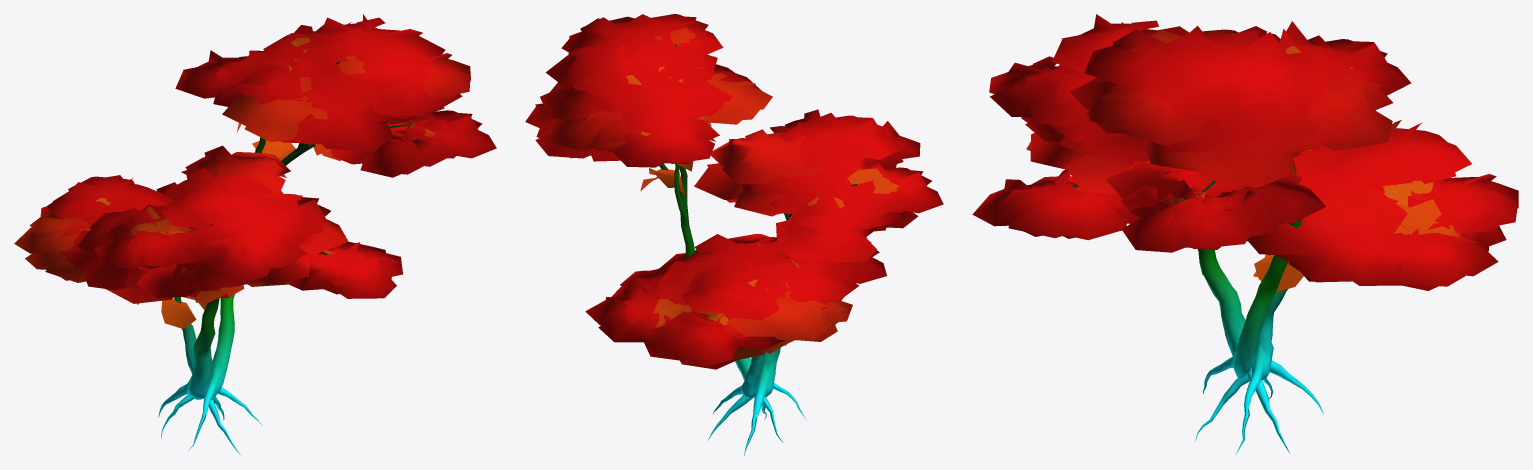
Rendered from SM_Acacia8_LOD0.fbx.
The picture shows the model from 3 angles, left to right: view 1: azimuth 30°, elevation 25°; view 2: azimuth 150°, elevation 25°; view 3: azimuth 270°, elevation 25°; orthographic projection. The views are drawn at different scales.
Visible parts, largest first — view 1: SM_Acacia8_LOD0; view 2: SM_Acacia8_LOD0; view 3: SM_Acacia8_LOD0.
Boxes of the visible parts, box(x1,y1,x2,y2) form: SM_Acacia8_LOD0: box(14, 14, 496, 455); SM_Acacia8_LOD0: box(525, 14, 943, 455); SM_Acacia8_LOD0: box(972, 14, 1518, 454).
Bounding box in the file's own units: 1477 × 1353 × 1391.
